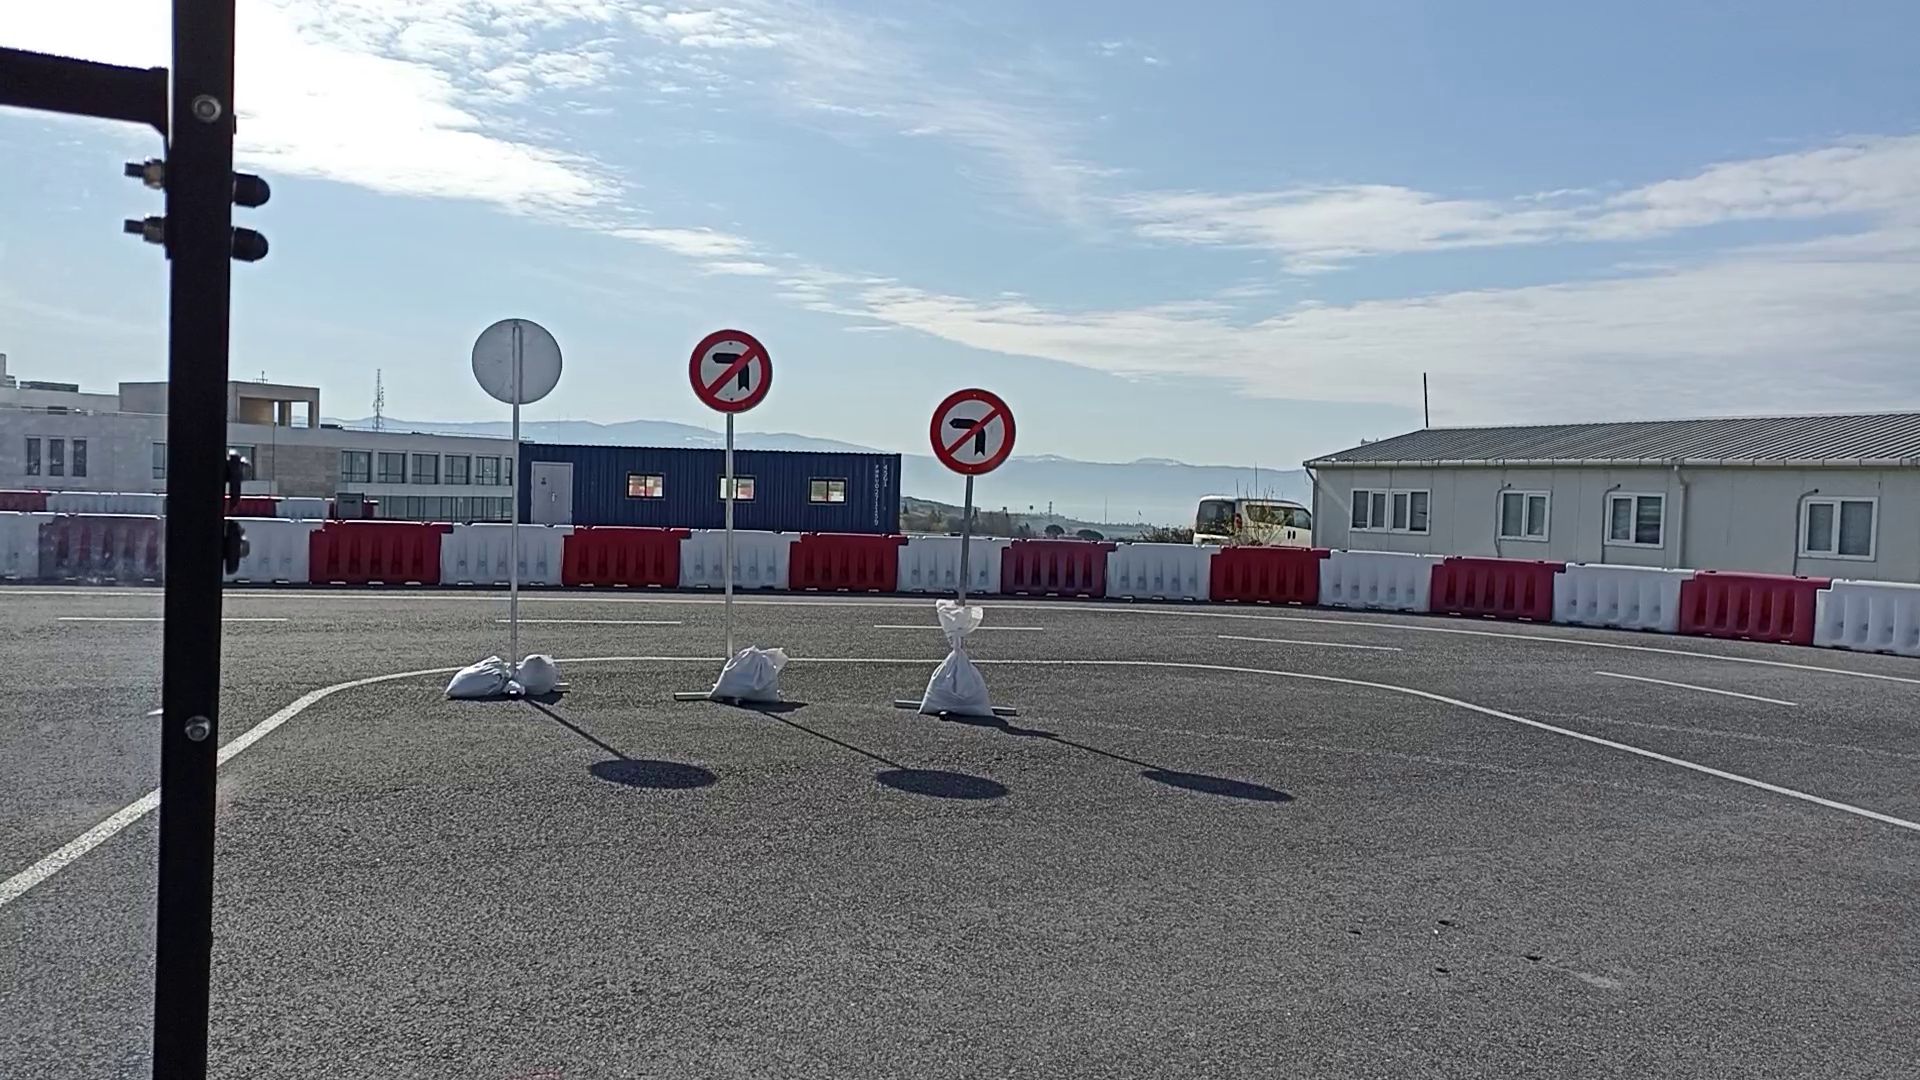noleft: (928, 386, 1018, 477), (686, 326, 773, 414)
